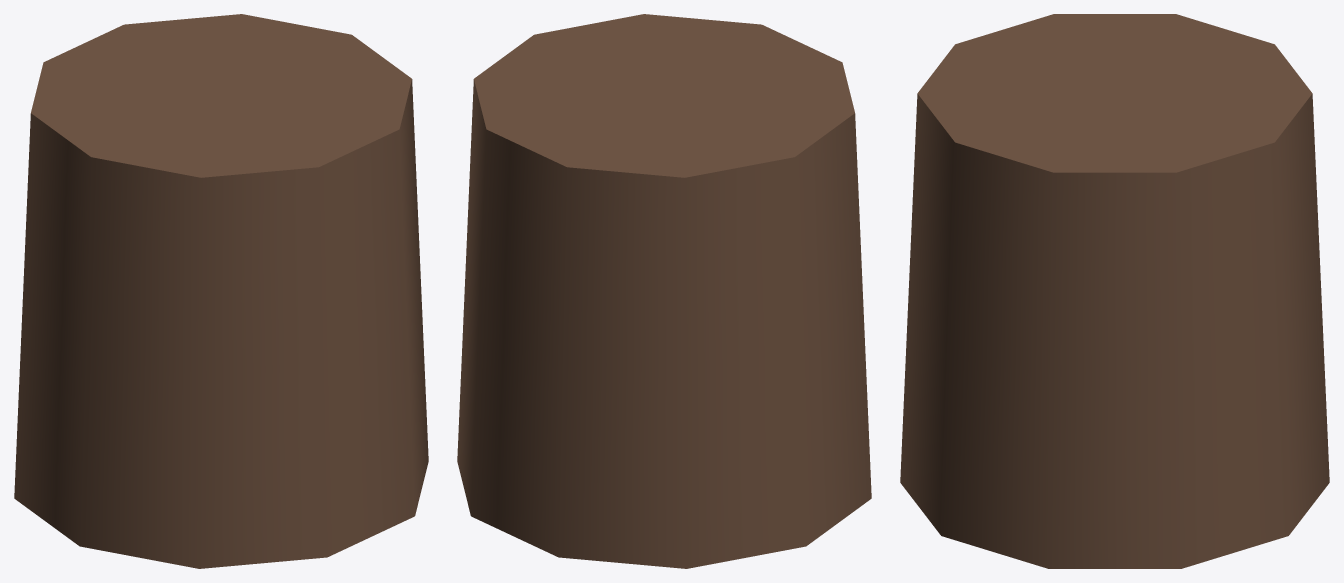
The model's file is stem-wood.glb.
The picture shows the model from 3 angles, left to right: view 1: azimuth 30°, elevation 25°; view 2: azimuth 150°, elevation 25°; view 3: azimuth 270°, elevation 25°; orthographic projection.
Visible parts, largest first — view 1: surface; view 2: surface; view 3: surface.
Boxes of the visible parts, x1,y1,x2,y2 form: surface: [14, 14, 428, 568]; surface: [457, 14, 871, 568]; surface: [900, 14, 1329, 568].
Bounding box in the file's own units: 0.9511 × 1 × 1.
